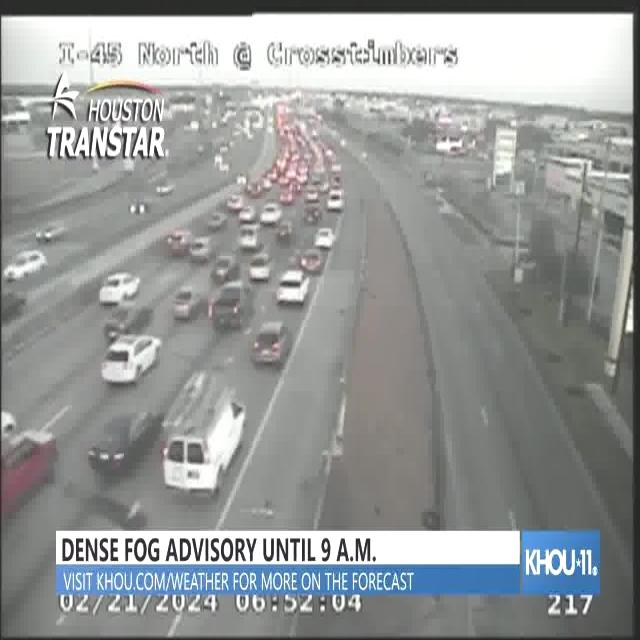Car: (88, 404, 165, 473), (0, 430, 60, 517), (101, 332, 162, 382), (250, 320, 293, 367), (104, 303, 152, 345), (2, 250, 48, 281), (99, 273, 141, 303), (276, 270, 310, 306), (172, 284, 202, 320), (2, 289, 26, 323), (165, 229, 191, 257), (211, 256, 240, 281), (248, 252, 272, 281), (189, 236, 213, 263), (34, 225, 67, 244), (299, 248, 323, 274), (239, 225, 261, 250), (259, 202, 282, 224), (126, 197, 152, 214), (315, 227, 335, 249), (276, 220, 294, 243), (227, 195, 246, 215), (208, 212, 227, 230), (239, 205, 257, 224), (326, 192, 343, 212), (305, 204, 321, 224), (303, 184, 317, 202)
Truck: (211, 283, 248, 331)
Van: (163, 400, 247, 498)
